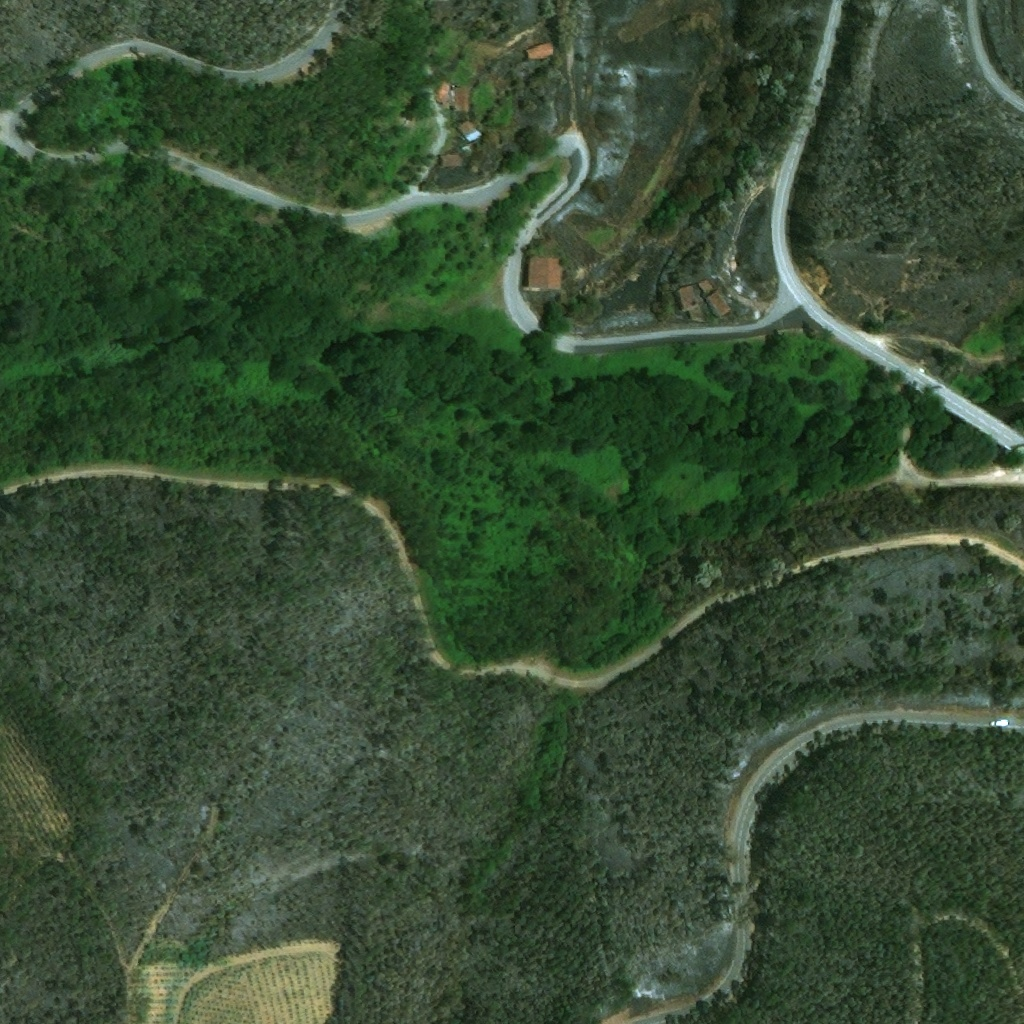0 no-damage: (525, 256, 564, 292), (458, 117, 485, 142), (437, 82, 451, 103), (456, 87, 470, 108)
1 minor-damage: (704, 288, 730, 320), (674, 284, 699, 315), (525, 42, 556, 61), (440, 152, 461, 166)
